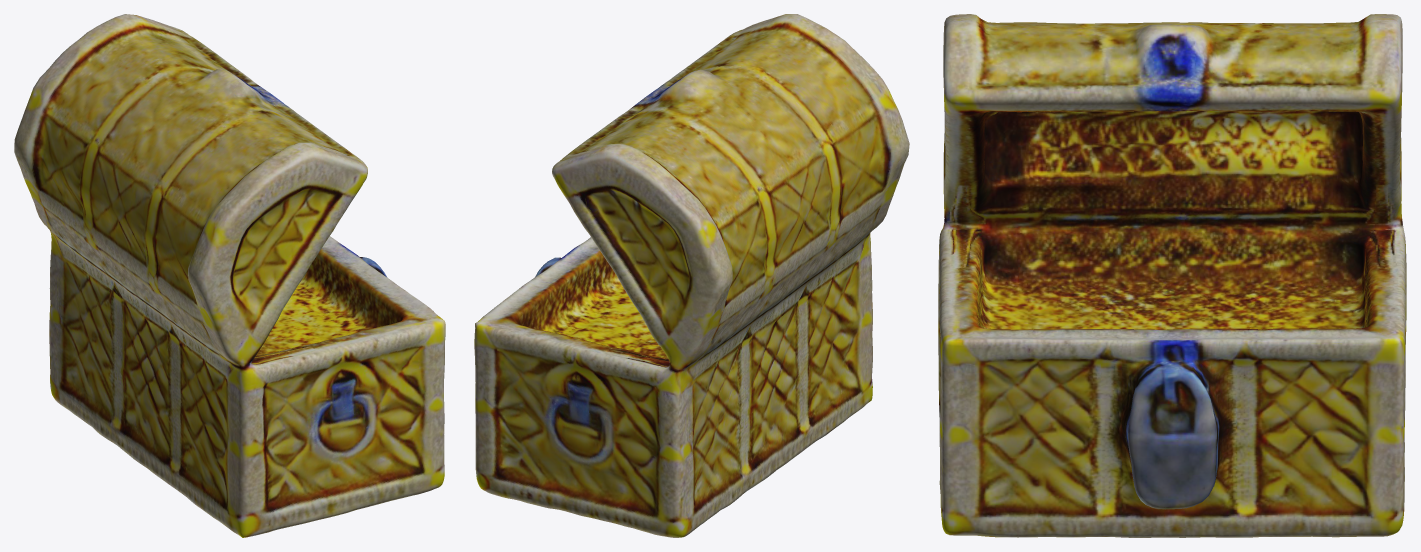
The model's file is 05183b660bec_a_voxel_cube_treasu.fbx.
3 views of the same model, side by side, from view 1: azimuth 30°, elevation 25°; view 2: azimuth 150°, elevation 25°; view 3: azimuth 270°, elevation 25° (orthographic). The views are drawn at different scales.
Parts seen in each view (by area): view 1: mesh; view 2: mesh; view 3: mesh.
Part boxes in pixels (x1=…): mesh: x1=14, y1=14, x2=445, y2=537; mesh: x1=474, y1=14, x2=909, y2=537; mesh: x1=938, y1=14, x2=1406, y2=537.
Size of the model in its own units: 81.06 by 99.96 by 95.37.
